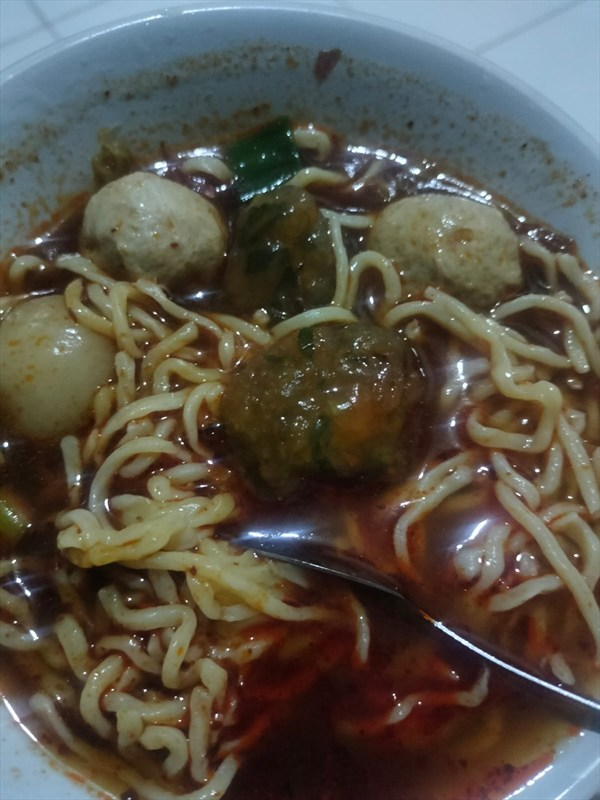Bakso: (50, 139, 554, 715)
